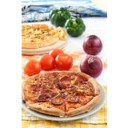pepperonipizza: (23, 72, 102, 116)
